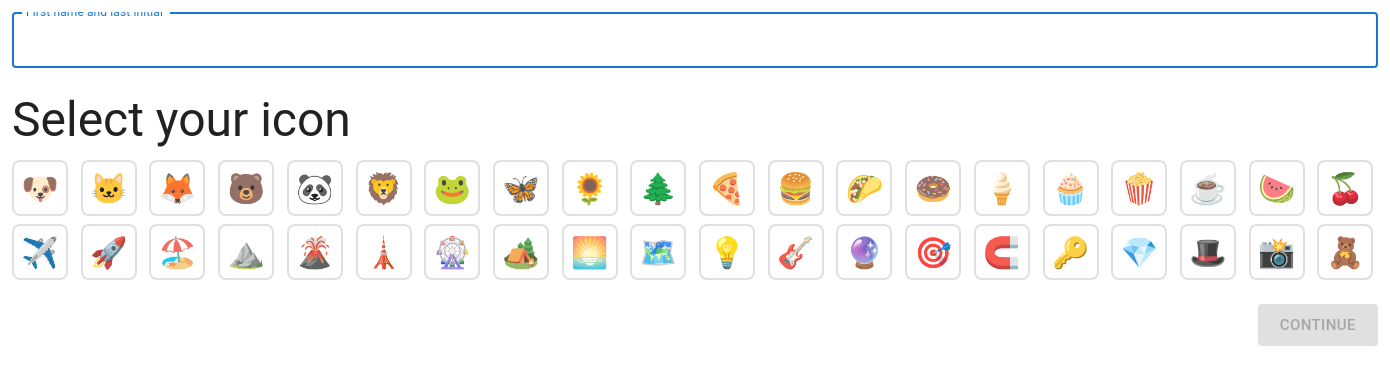
Scenario: NameForm › should enable button when input has 2+ characters and emoji is selected
In the field labelled "First name and last initial": (695, 40) top-left (12, 12), bottom-right (1378, 68), type "Al"
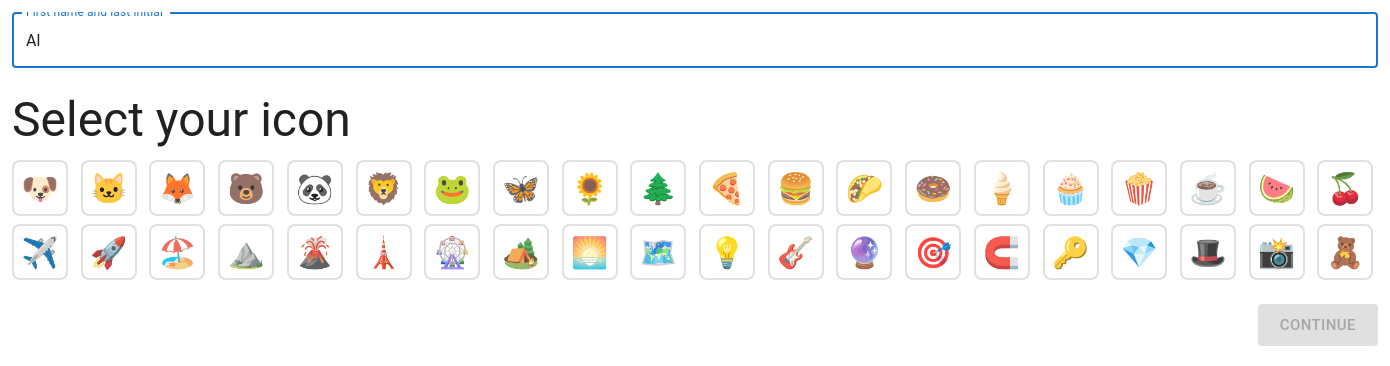
Expected: the button "Continue" is disabled, top-left (1258, 304), bottom-right (1378, 346)
Note: Select an emoji
Click the radio button "🍕": (727, 188) top-left (699, 160), bottom-right (755, 216)
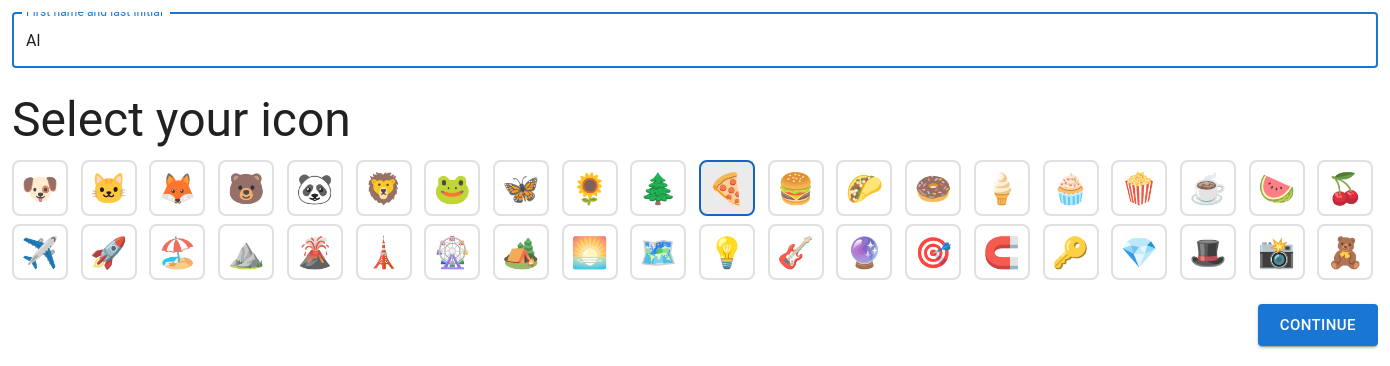
Expected: the button "Continue" is enabled, top-left (1258, 304), bottom-right (1378, 346)
